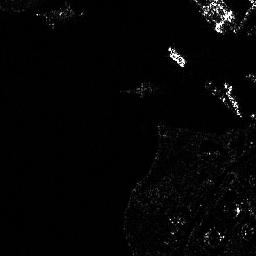ship: (167, 44, 187, 68)
